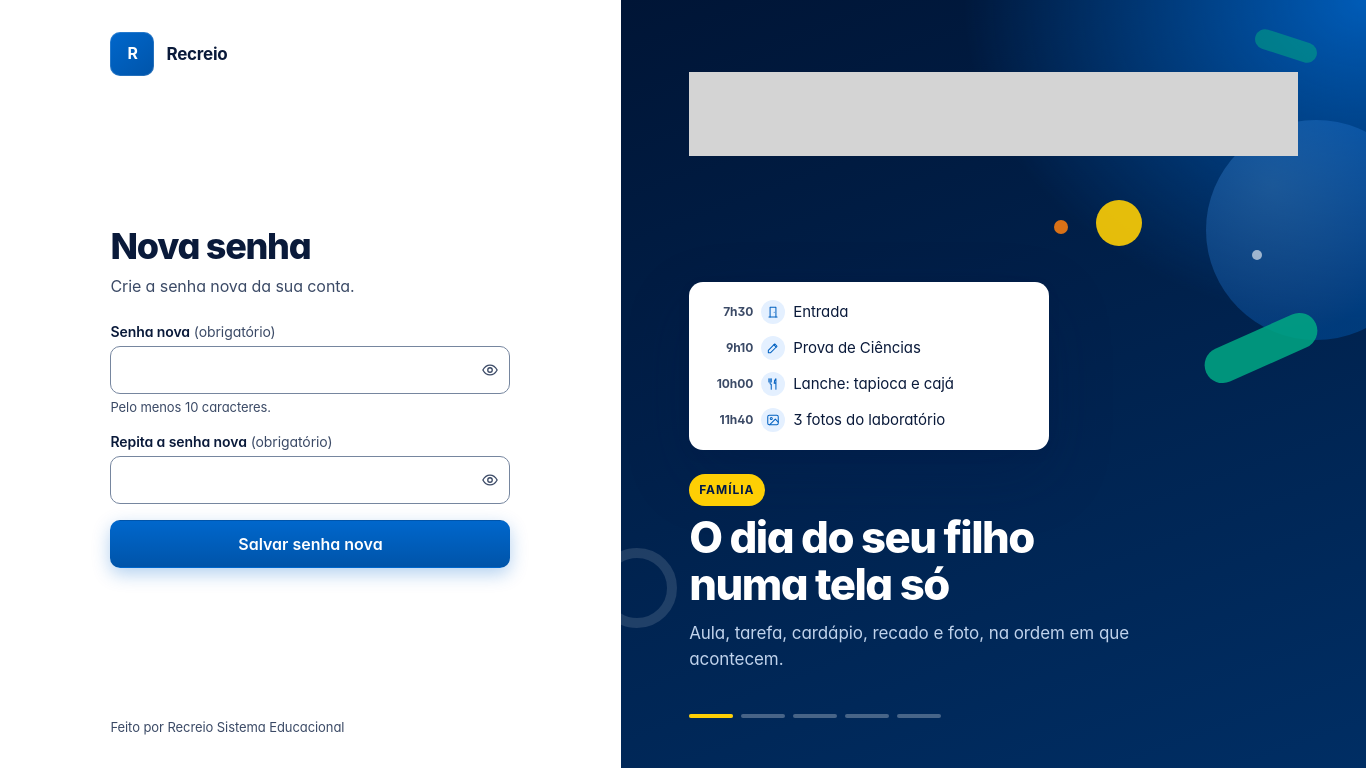
nova senha › link vencido pede um novo
The width and height of the screenshot is (1366, 768).
Type "senha-nova-2026" into the password field labelled "Senha nova (obrigatório)".
click(296, 370); type("senha-nova-2026")  # box [124,347,468,393]
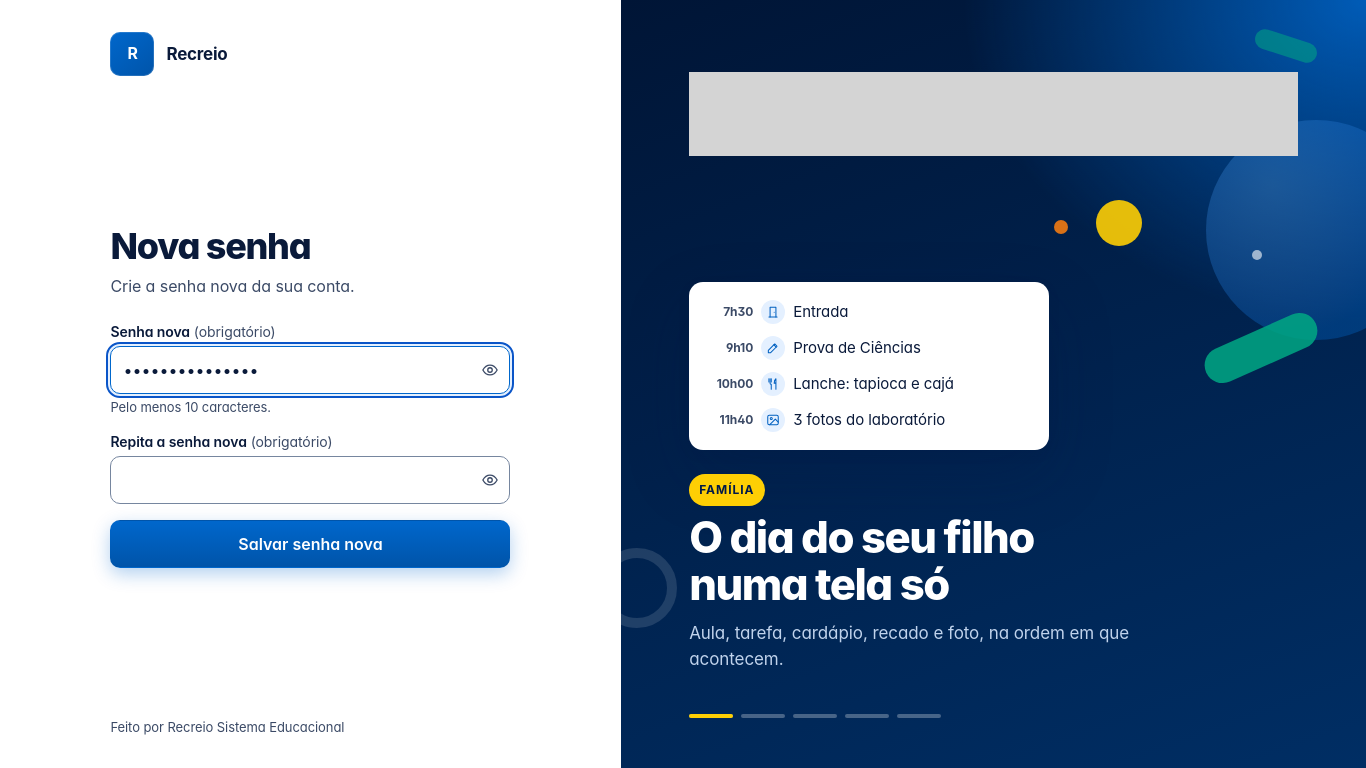
Type "senha-nova-2026" into the password field labelled "Repita a senha nova (obrigatório)".
click(296, 480); type("senha-nova-2026")  # box [124,457,468,503]
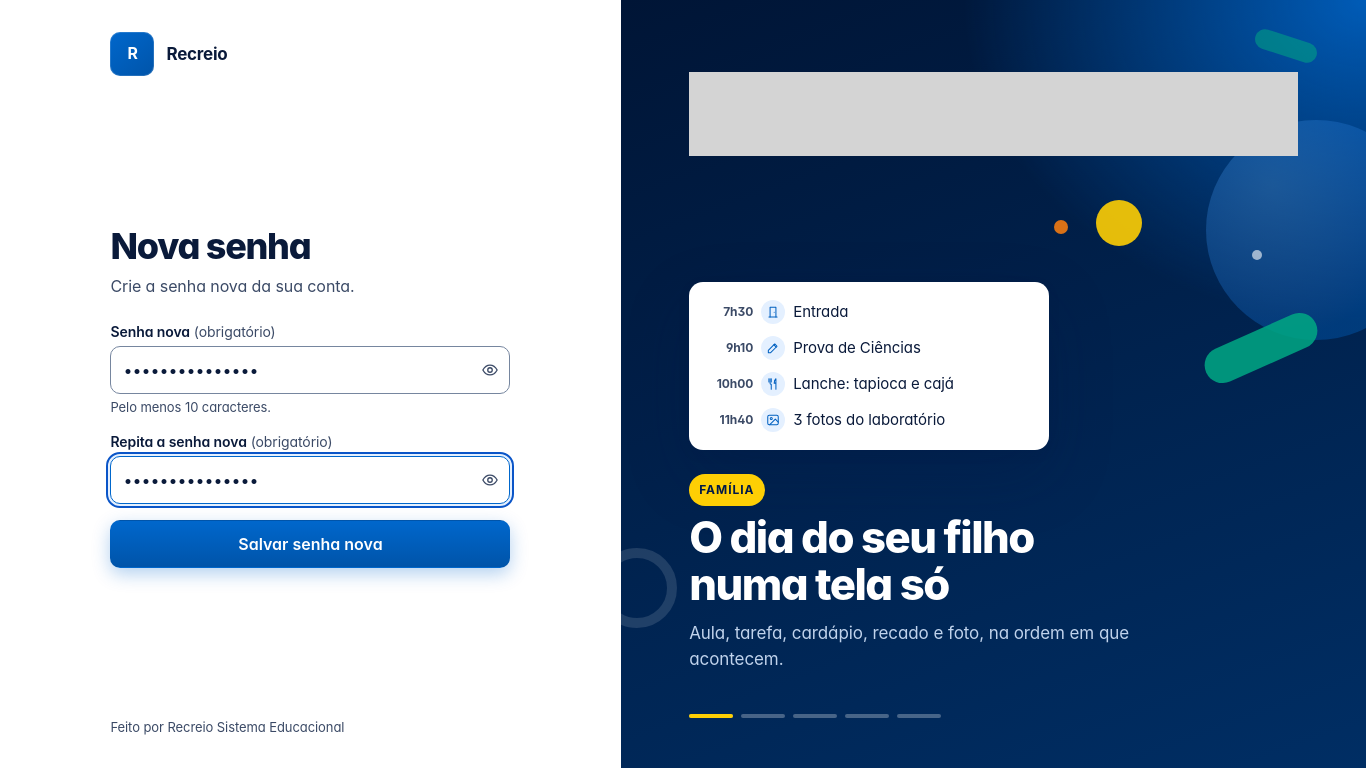
Click the button "Salvar senha nova".
click(310, 544)  # box [110,520,510,568]
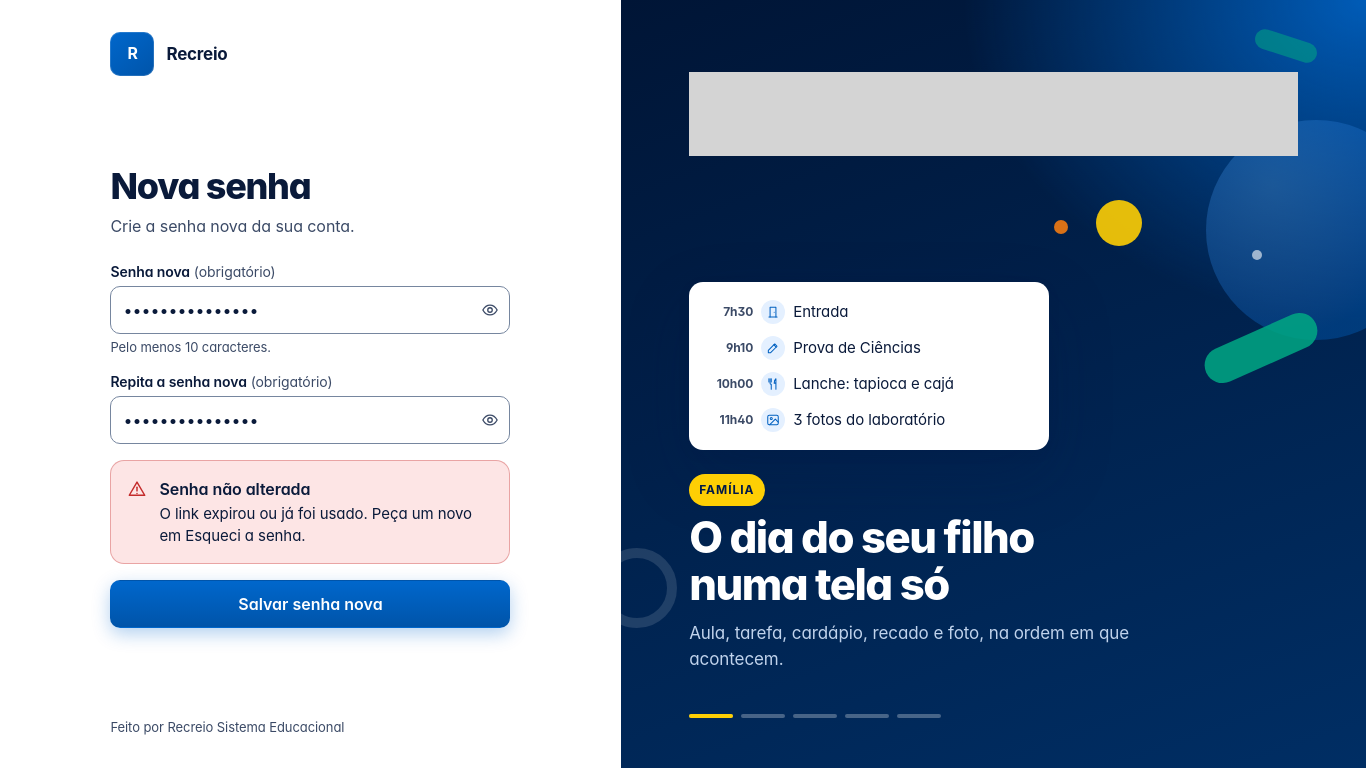
Check: the text "O link expirou ou já foi usado. Peça um novo em Esqueci a senha." is shown, box [160,503,494,547]
